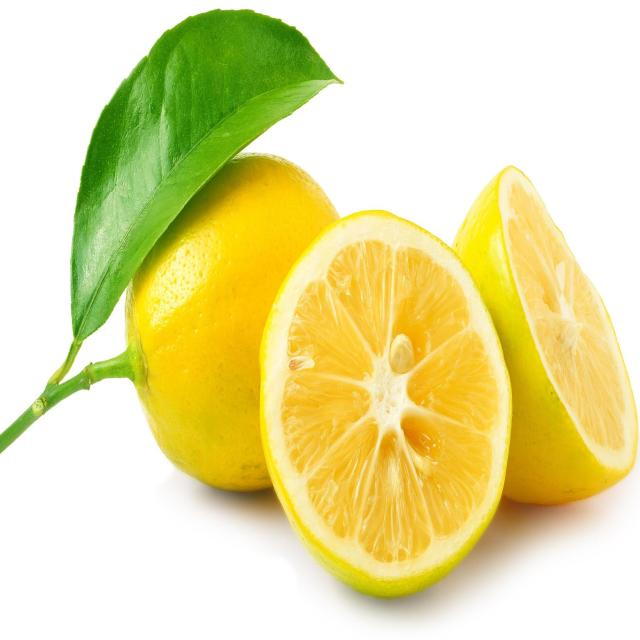lemon: (249, 198, 519, 608)
